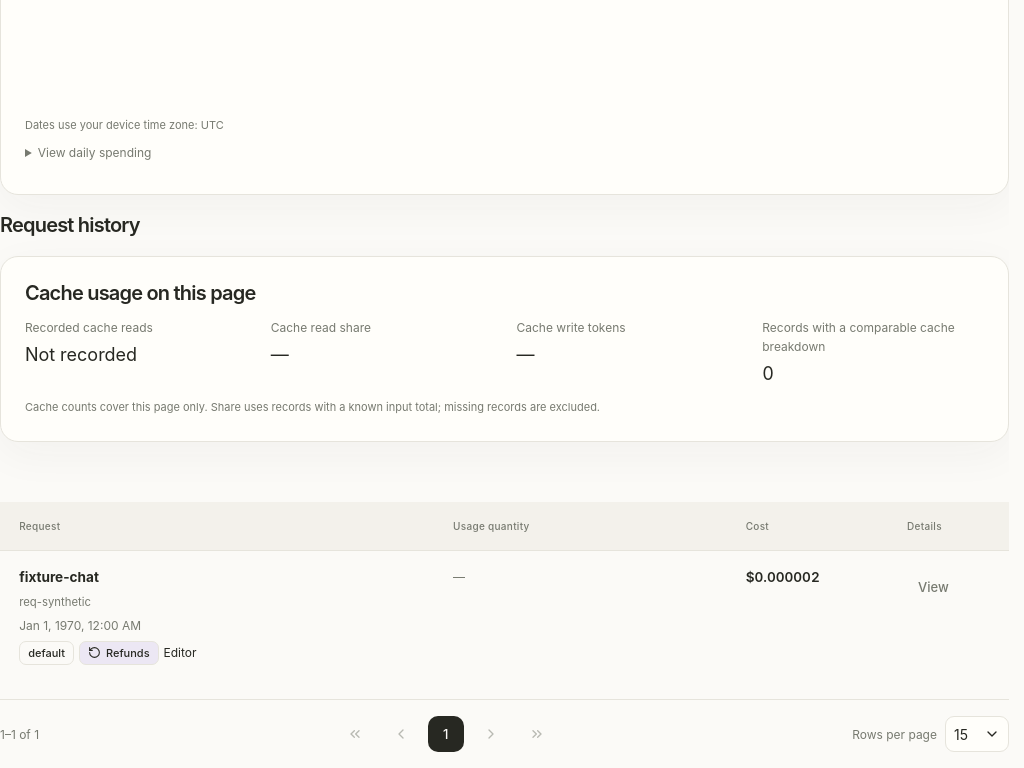
Test: labels refund records explicitly in the list and details
(page scrolled)
Expected: the text "Refunds" is shown, [79,641,159,665]
Click the button "View": coordinates (933, 588) [907,566,960,608]
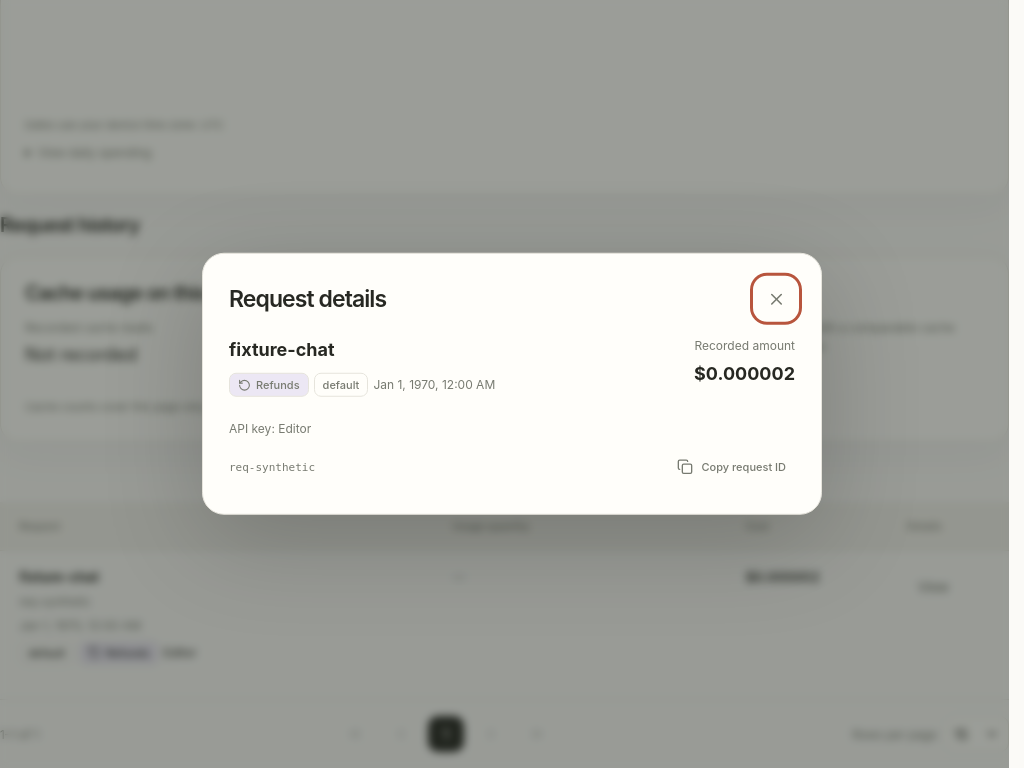
Expected: the text "Refunds" is shown, [229,373,309,397]
